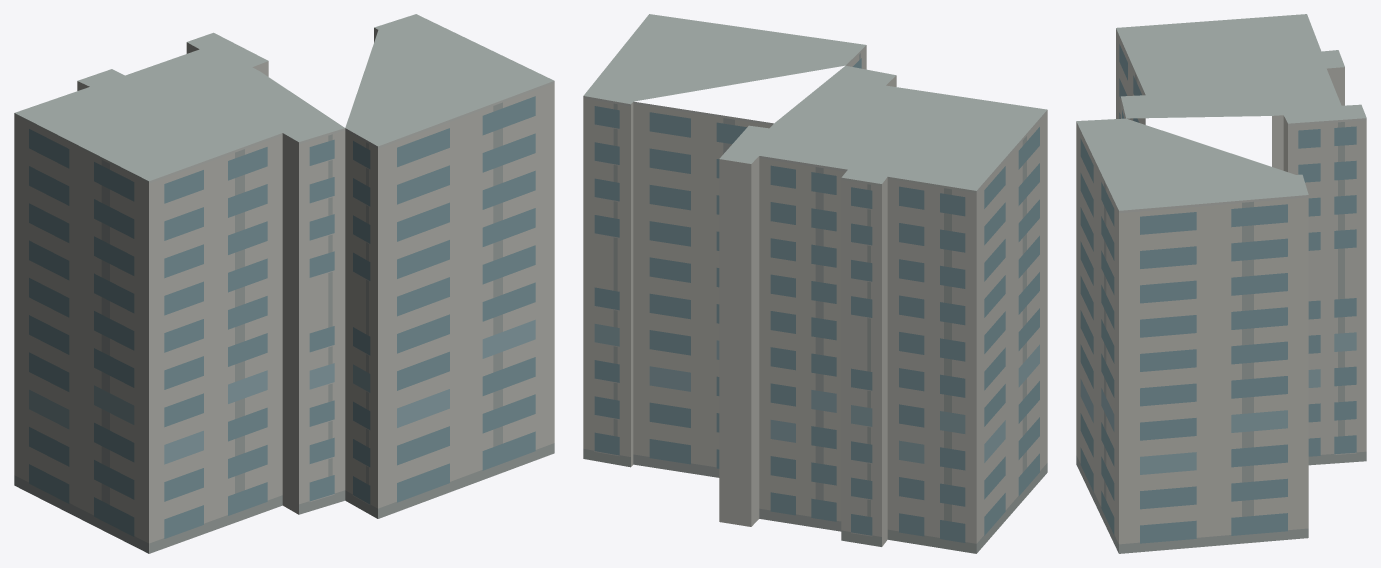
File: survey-upis-32835624.glb
The picture shows the model from 3 angles, left to right: view 1: azimuth 30°, elevation 25°; view 2: azimuth 150°, elevation 25°; view 3: azimuth 270°, elevation 25°; orthographic projection. The views are drawn at different scales.
Visible parts, largest first — view 1: survey-upis-32835624.tmp; view 2: survey-upis-32835624.tmp; view 3: survey-upis-32835624.tmp.
Part boxes in pixels (x1,y1,x2,y2): survey-upis-32835624.tmp: (14, 14, 554, 553); survey-upis-32835624.tmp: (583, 14, 1047, 553); survey-upis-32835624.tmp: (1076, 14, 1366, 553).
Bounding box in the file's own units: 46.58 × 37.85 × 29.06.
